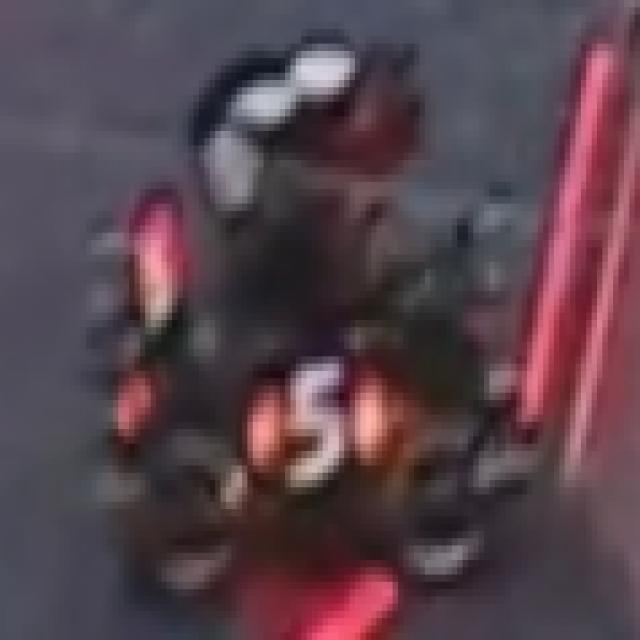R5: (248, 357, 392, 488)
